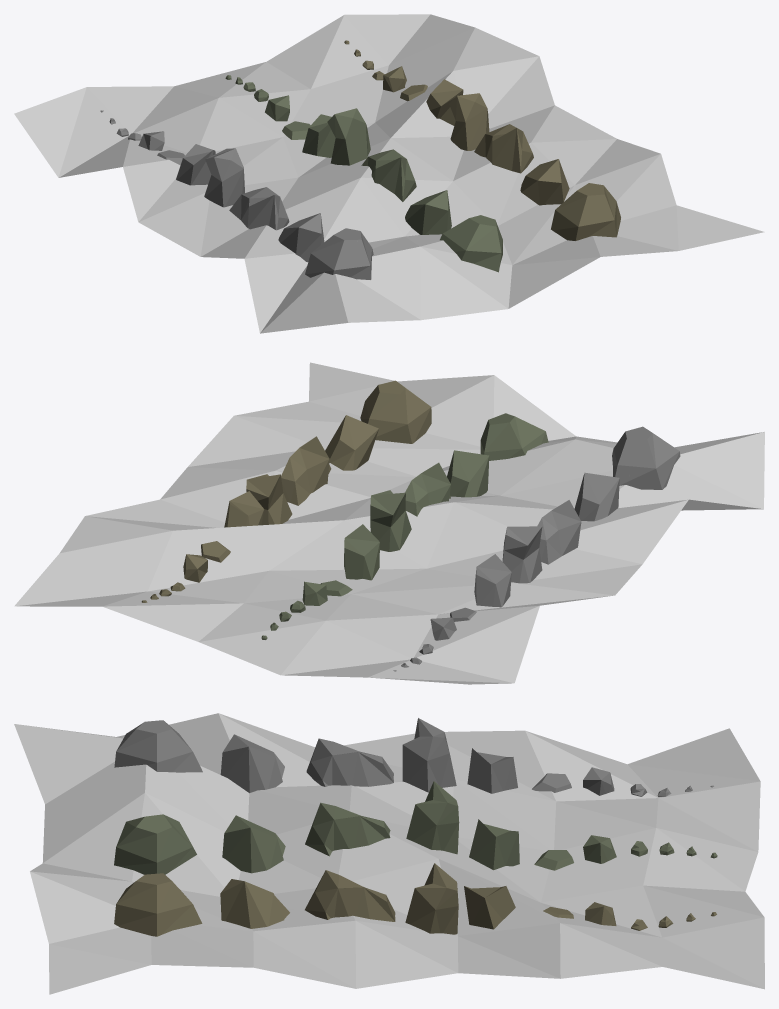
The model's file is RockPack.FBX.
The picture shows the model from 3 angles, top to bottom: view 1: azimuth 30°, elevation 25°; view 2: azimuth 150°, elevation 25°; view 3: azimuth 270°, elevation 25°; orthographic projection. The views are drawn at different scales.
Parts seen in each view (by area): view 1: Plane001, Cylinder010, Cylinder032, Cylinder021, Cylinder004, Cylinder014, Cylinder025, Cylinder003, Cylinder026, Cylinder015, Cylinder002, Cylinder013 (+4 smaller); view 2: Plane001, Cylinder010, Cylinder032, Cylinder004, Cylinder021, Cylinder014, Cylinder002, Cylinder025, Cylinder026, Cylinder024, Cylinder013, Cylinder012 (+5 smaller); view 3: Plane001, Cylinder010, Cylinder021, Cylinder032, Cylinder026, Cylinder004, Cylinder015, Cylinder025, Cylinder003, Cylinder014, Cylinder024, Cylinder013 (+9 smaller).
Part boxes in pixels (x1,y1,x2,y2): Plane001: (14,14,764,333); Cylinder010: (551,183,620,240); Cylinder032: (305,228,373,279); Cylinder021: (440,215,502,272); Cylinder004: (474,124,533,173); Cylinder014: (327,108,370,165); Cylinder025: (204,148,244,207); Cylinder003: (449,93,489,150); Cylinder026: (229,187,289,230); Cylinder015: (361,149,416,201); Cylinder002: (520,159,569,205); Cylinder013: (405,190,451,234); Plane001: (14,362,764,684); Cylinder010: (360,380,431,443); Cylinder032: (612,426,680,489); Cylinder004: (281,436,331,505); Cylinder021: (480,413,548,460); Cylinder014: (370,490,411,551); Cylinder002: (325,415,378,470); Cylinder025: (502,526,542,583); Cylinder026: (537,500,581,564); Cylinder024: (574,472,619,521); Cylinder013: (447,450,489,497); Cylinder012: (344,524,379,580); Plane001: (14,713,764,994); Cylinder010: (114,873,202,936); Cylinder021: (114,814,196,874); Cylinder032: (114,720,202,772); Cylinder026: (306,738,393,786); Cylinder004: (305,870,395,921); Cylinder015: (305,802,390,856); Cylinder025: (402,718,456,792); Cylinder003: (405,863,458,934); Cylinder014: (406,781,459,854); Cylinder024: (220,734,284,793); Cylinder013: (222,815,285,873).
Bounding box in the file's own units: 319 × 50.58 × 381.
